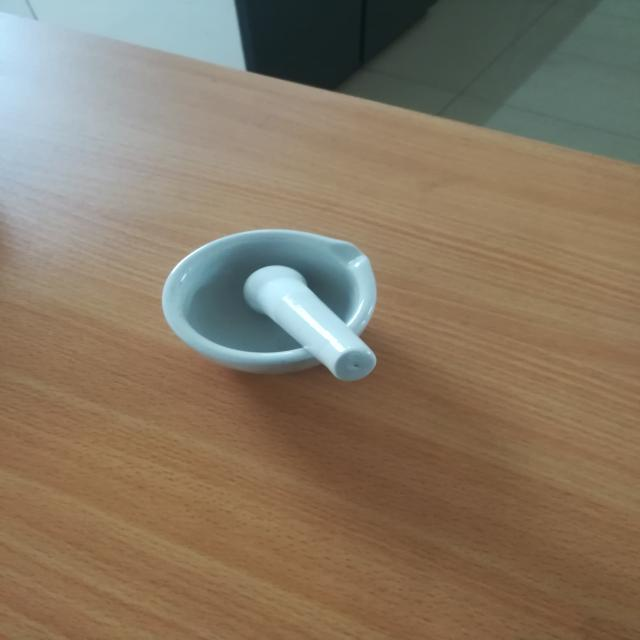Porcelain_Mortar Pestle: (134, 188, 406, 425)
